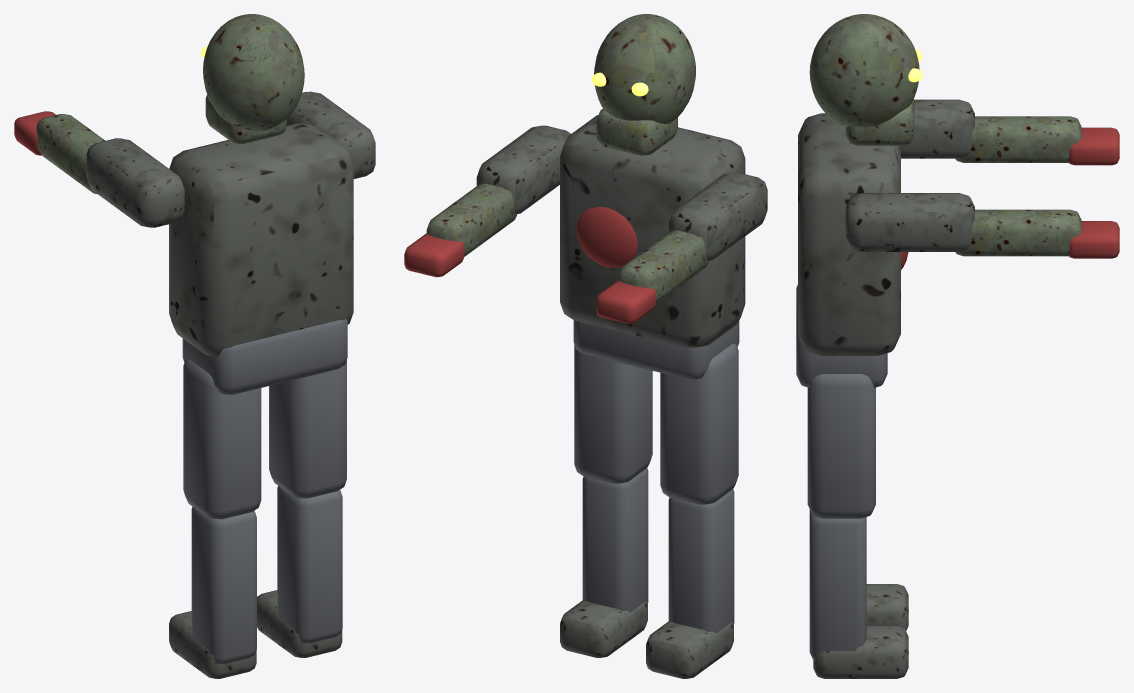
Rendered from zombie_walker.glb.
3 renders of one model, left to right at view 1: azimuth 30°, elevation 25°; view 2: azimuth 150°, elevation 25°; view 3: azimuth 270°, elevation 25°, orthographic.
Visible parts, largest first — view 1: ChestMesh, ThighL, Skull, ShinR, ShinL, ThighR, PelvisMesh, UpperArmL, UpperArmR, ForearmL, BootL, BootR (+2 smaller); view 2: ChestMesh, ThighL, ThighR, Skull, ShinR, ShinL, UpperArmL, PelvisMesh, UpperArmR, ForearmL, ForearmR, BootR (+5 smaller); view 3: ChestMesh, Skull, ThighR, ShinR, UpperArmR, ForearmR, ForearmL, BootR, UpperArmL, PelvisMesh, BootL, Jaw (+2 smaller).
Boxes of the visible parts, left/top/right/bottom form: ChestMesh: left=169, top=123, right=353, bottom=356; ThighL: left=183, top=359, right=261, bottom=519; Skull: left=203, top=14, right=304, bottom=131; ShinR: left=277, top=486, right=342, bottom=643; ShinL: left=191, top=506, right=256, bottom=664; ThighR: left=269, top=360, right=346, bottom=498; PelvisMesh: left=182, top=318, right=347, bottom=394; UpperArmL: left=86, top=138, right=184, bottom=227; UpperArmR: left=286, top=91, right=375, bottom=178; ForearmL: left=36, top=114, right=105, bottom=194; BootL: left=169, top=611, right=256, bottom=678; BootR: left=257, top=590, right=342, bottom=657; ChestMesh: left=560, top=115, right=745, bottom=347; ThighL: left=660, top=343, right=738, bottom=504; ThighR: left=574, top=344, right=652, bottom=483; Skull: left=594, top=14, right=695, bottom=124; ShinR: left=582, top=468, right=648, bottom=612; ShinL: left=668, top=489, right=734, bottom=633; UpperArmL: left=668, top=172, right=767, bottom=260; PelvisMesh: left=573, top=320, right=739, bottom=379; UpperArmR: left=476, top=125, right=570, bottom=213; ForearmL: left=618, top=230, right=708, bottom=303; ForearmR: left=426, top=183, right=517, bottom=256; BootR: left=560, top=600, right=647, bottom=657; ChestMesh: left=798, top=113, right=900, bottom=355; Skull: left=809, top=14, right=919, bottom=127; ThighR: left=807, top=374, right=875, bottom=518; ShinR: left=809, top=509, right=866, bottom=660; UpperArmR: left=845, top=193, right=974, bottom=251; ForearmR: left=955, top=209, right=1081, bottom=256; ForearmL: left=955, top=116, right=1081, bottom=162; BootR: left=813, top=625, right=908, bottom=678; UpperArmL: left=901, top=99, right=974, bottom=158; PelvisMesh: left=796, top=285, right=887, bottom=387; BootL: left=866, top=584, right=908, bottom=630; Jaw: left=845, top=99, right=914, bottom=145.
Size of the model in its own units: 0.72 by 1.83 by 0.85.
5 materials, 2 textured.
